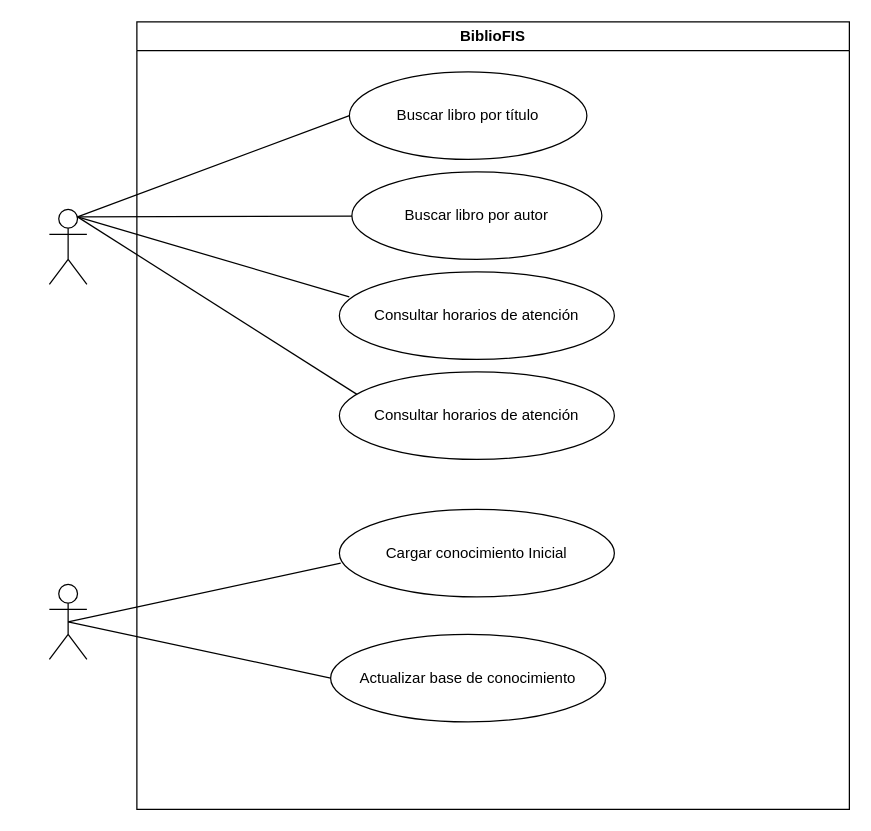
This 871x831 diagram has some shape labels left out. The centre of each missing label's shape, as x and y in pixels:
"Administrador" goes at pixel 67 621.
"Usuario" goes at pixel 67 246.
